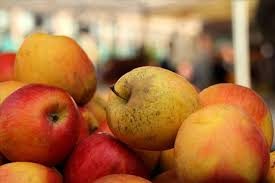apple: (179, 106, 265, 181), (4, 93, 83, 162), (19, 29, 95, 97), (73, 136, 136, 183)
damaged_apple: (108, 66, 197, 154)
